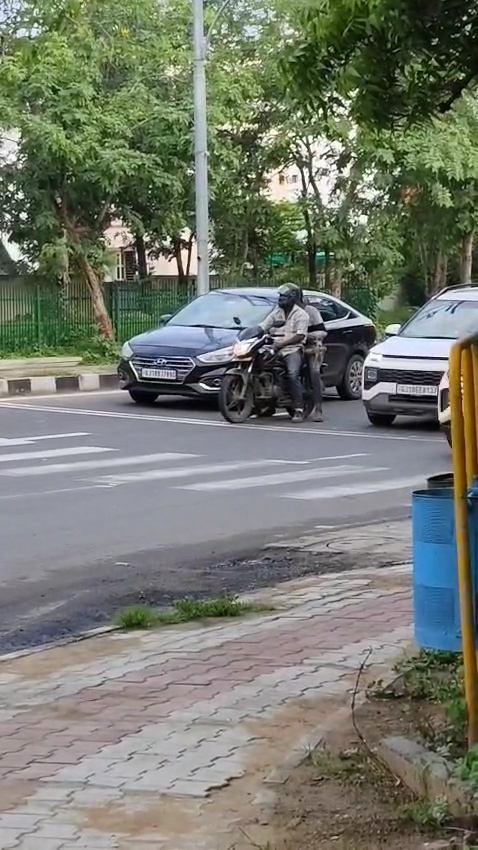BikeWithRider: (209, 277, 356, 430)
Helmet: (266, 278, 310, 317), (272, 281, 303, 310)
NoHelmet: (285, 281, 312, 305)
